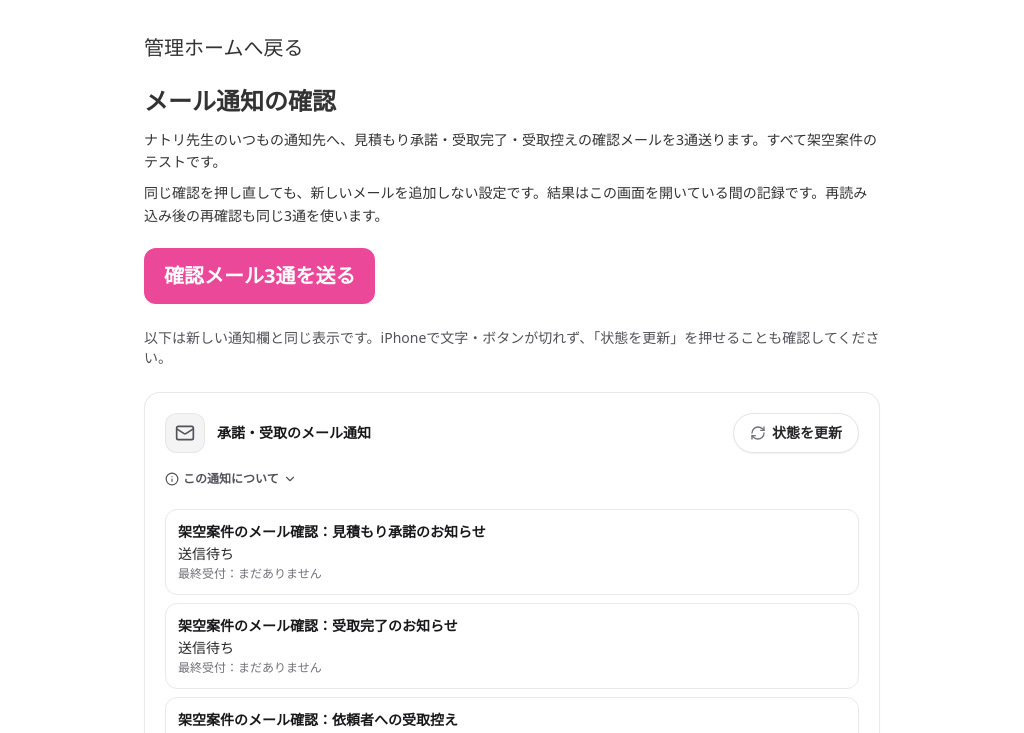
Scenario: the gated mail verification screen › sends the bounded campaign only on click, with CSRF and no customer input
Click the button "確認メール3通を送る": (260, 276) [144,248,376,304]
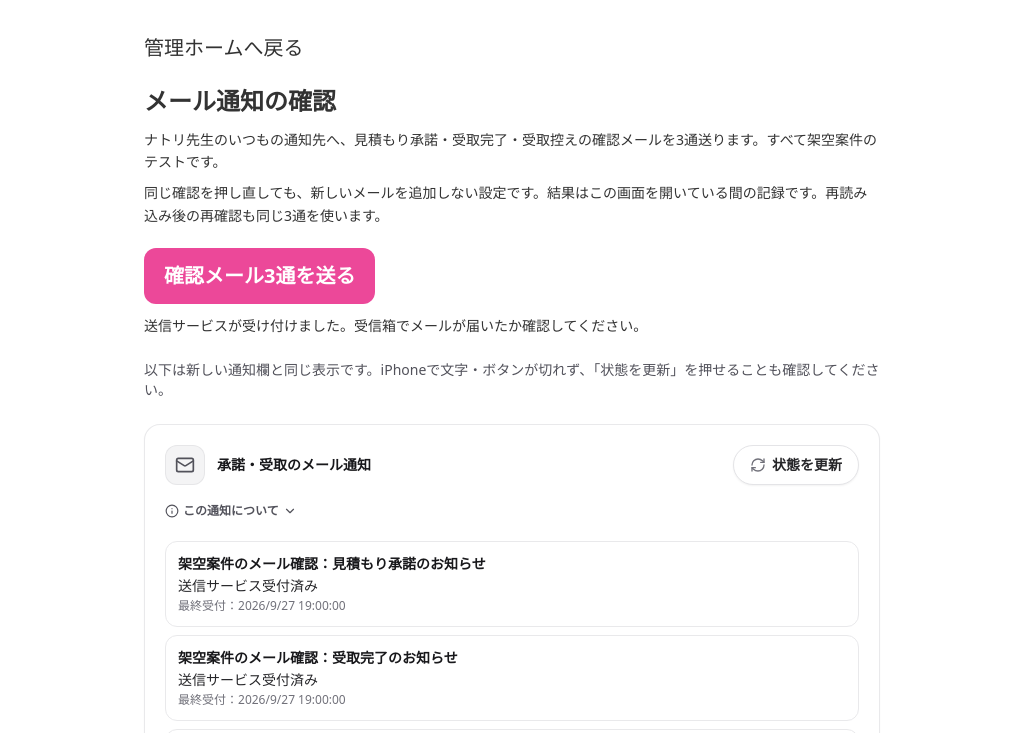
expect the message shows "受信箱": met, box [144,316,647,335]
